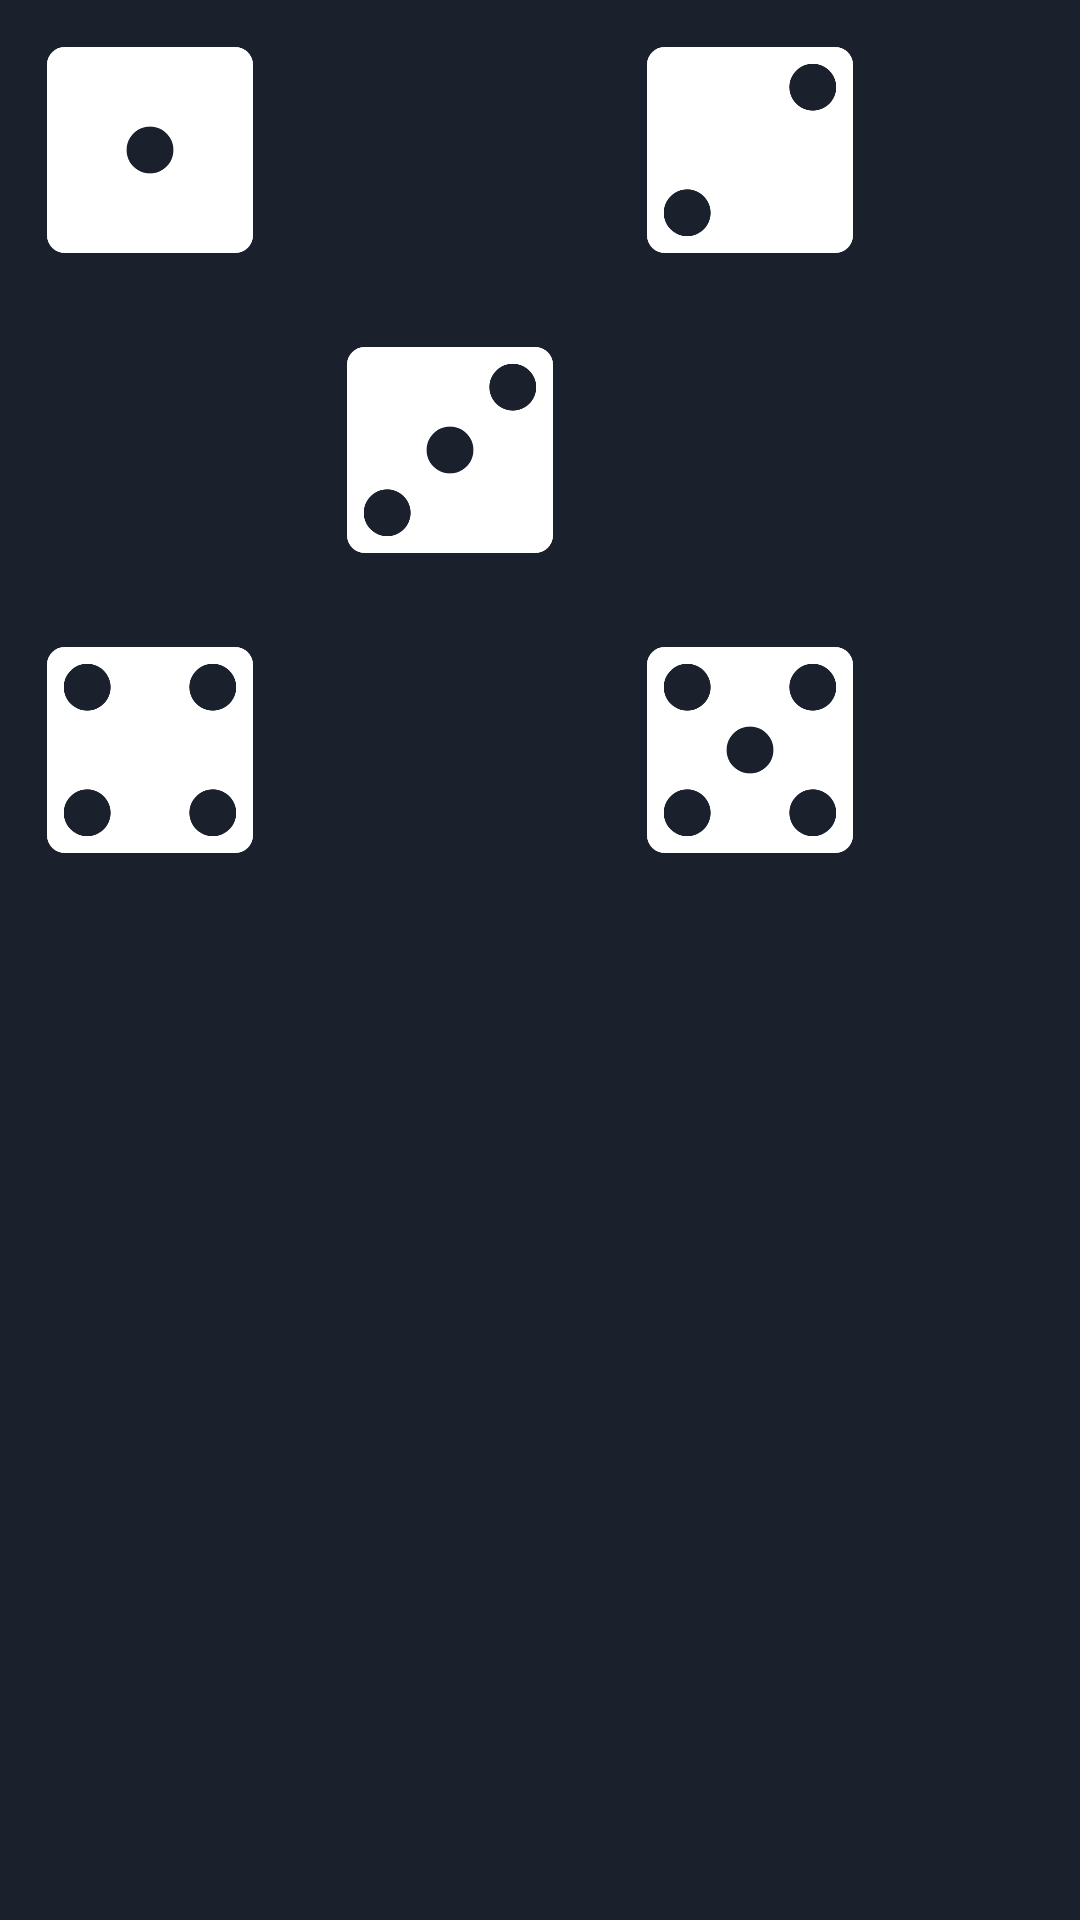

Where to tap for icons on this 1080px×1920px app screen, as [x,y]:
dice: [150,150], [750,150], [450,450], [150,750], [750,750]
